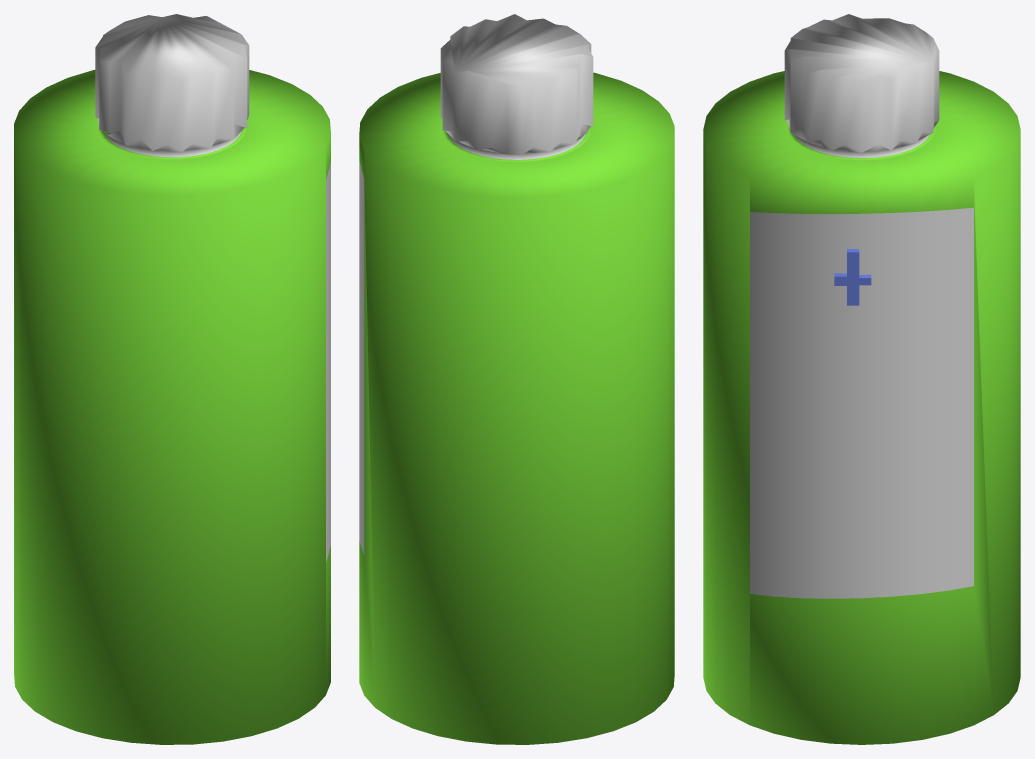
File: medecine prop.fbx
The picture shows the model from 3 angles, left to right: view 1: azimuth 30°, elevation 25°; view 2: azimuth 150°, elevation 25°; view 3: azimuth 270°, elevation 25°; orthographic projection.
Visible parts, largest first — view 1: Cube; view 2: Cube; view 3: Cube.
Boxes of the visible parts, x1,y1,x2,y2 form: Cube: (14,14,330,744); Cube: (359,14,674,744); Cube: (703,14,1020,744).
Bounding box in the file's own units: 117 × 253 × 114.
